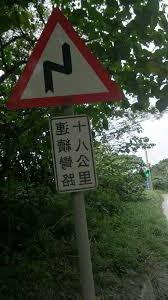double_bend_right: (5, 10, 123, 108)
